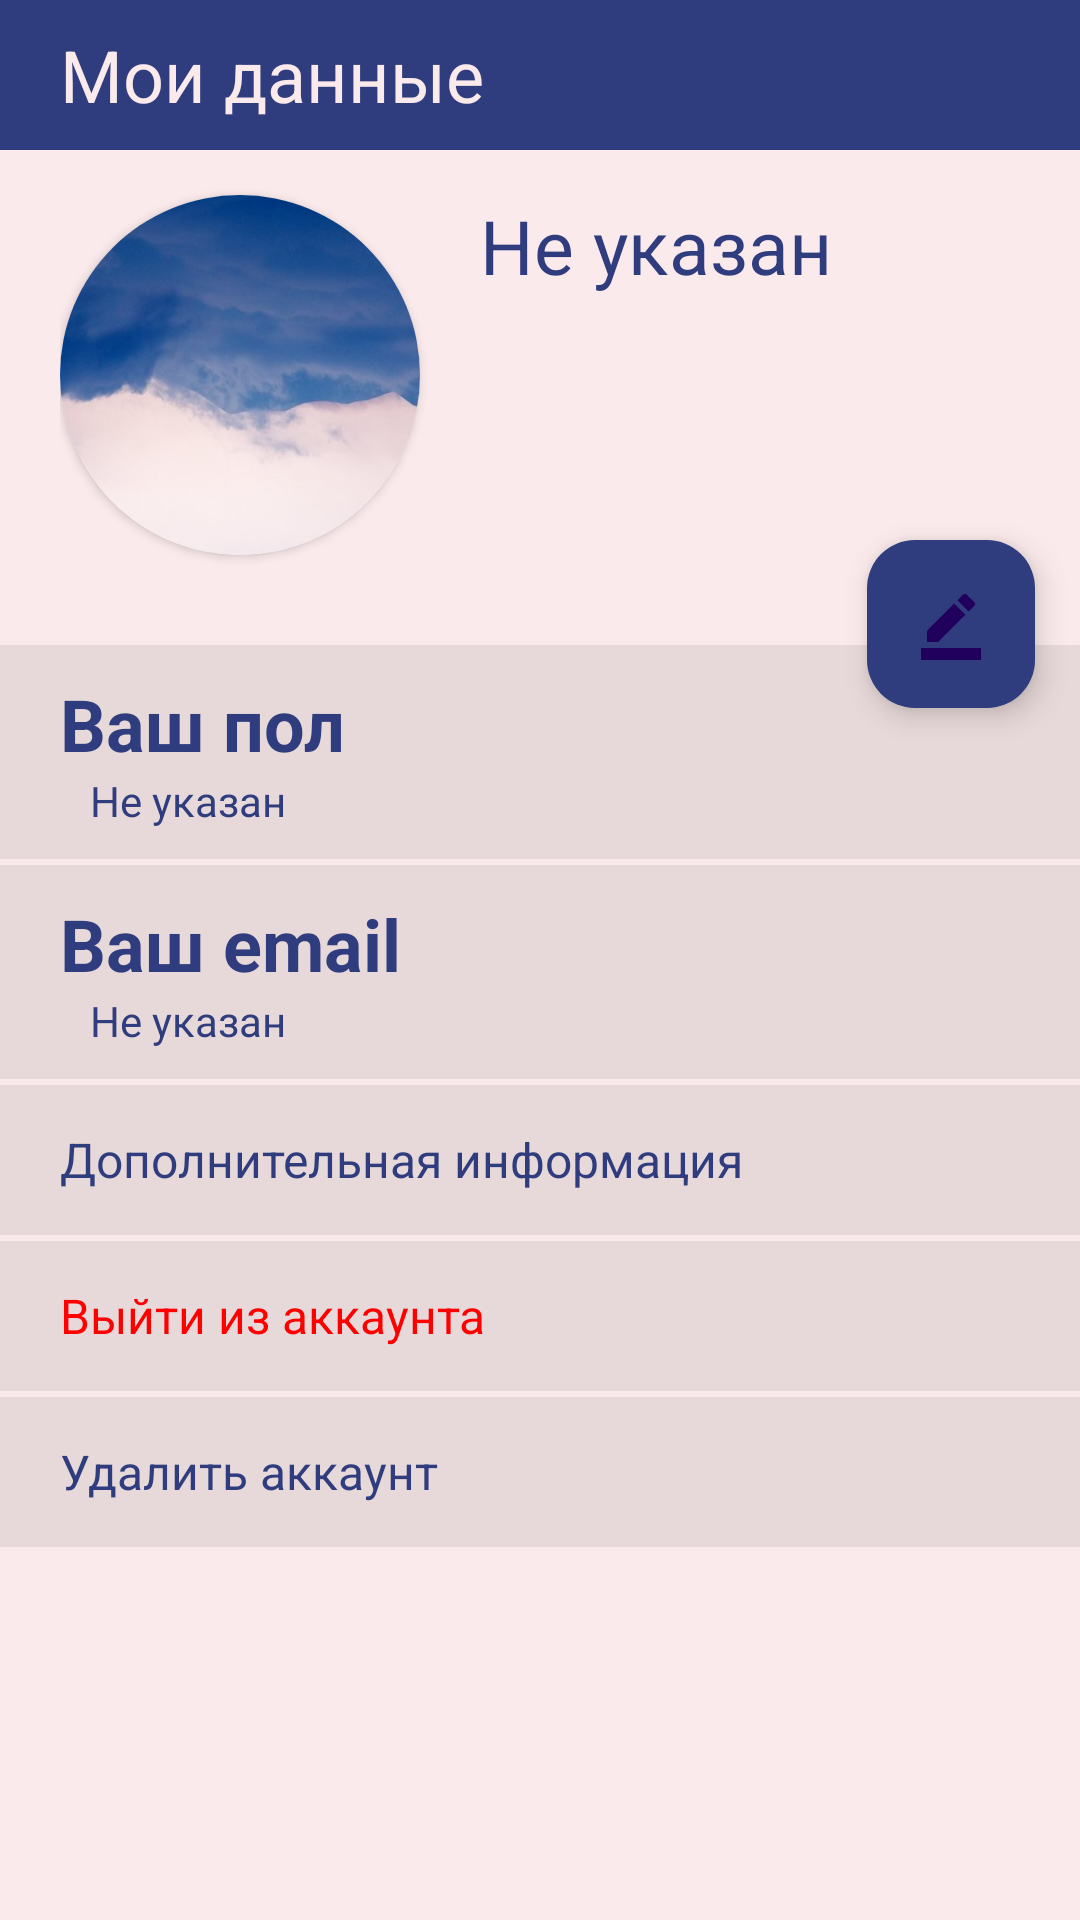

Named icons in this screenshot (1080*1920) and their bounding boxes, box(x1, y1, x2, y2):
cloud: box(60, 195, 420, 555)
